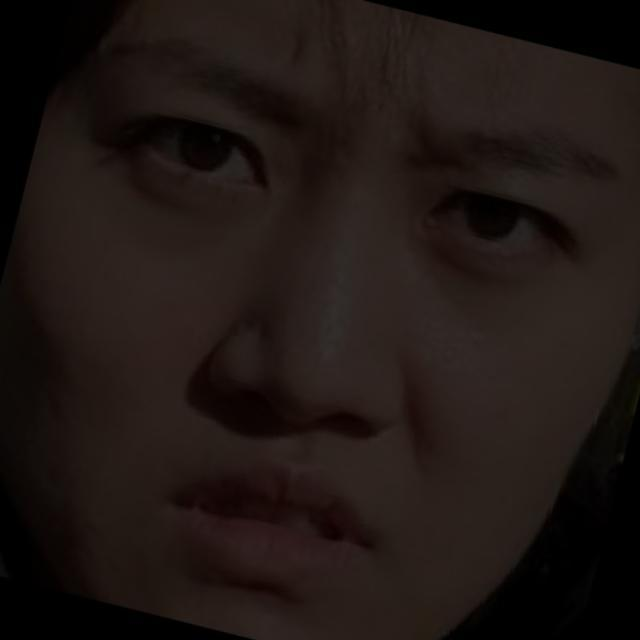Angry: (54, 27, 640, 639)
